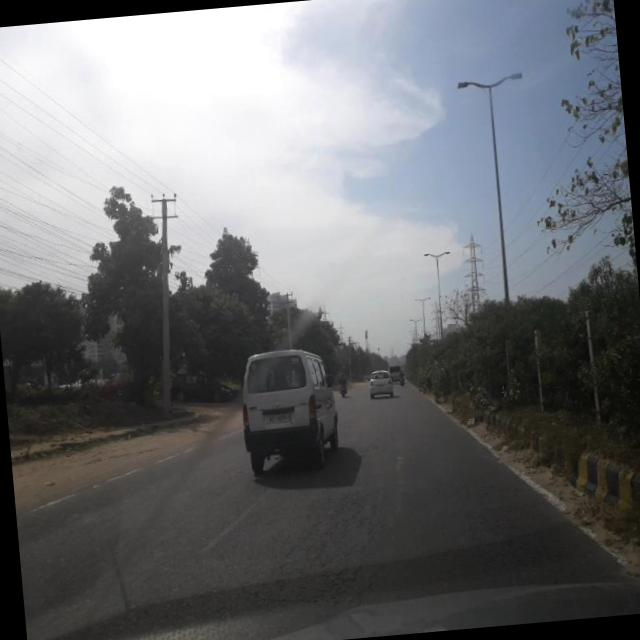crack: (43, 439, 583, 640)
